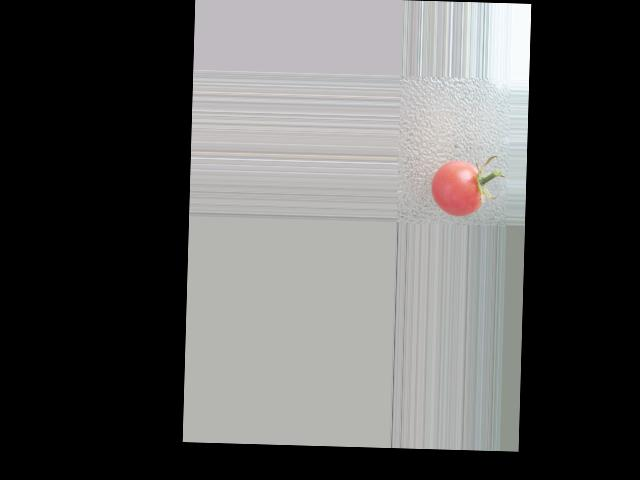tomato: (429, 158, 483, 216)
